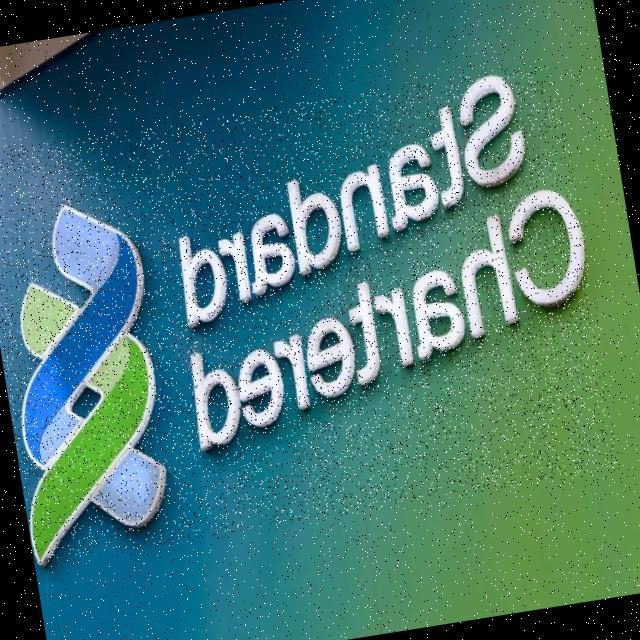Standard Chartered: (0, 61, 621, 563)
